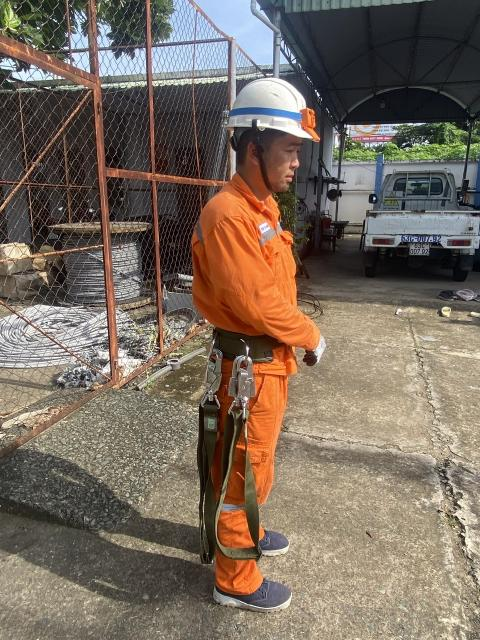gloves: (288, 322, 332, 368)
harness: (194, 325, 312, 384)
helmet: (219, 75, 339, 151)
shoes: (198, 576, 298, 616), (197, 527, 294, 560)
